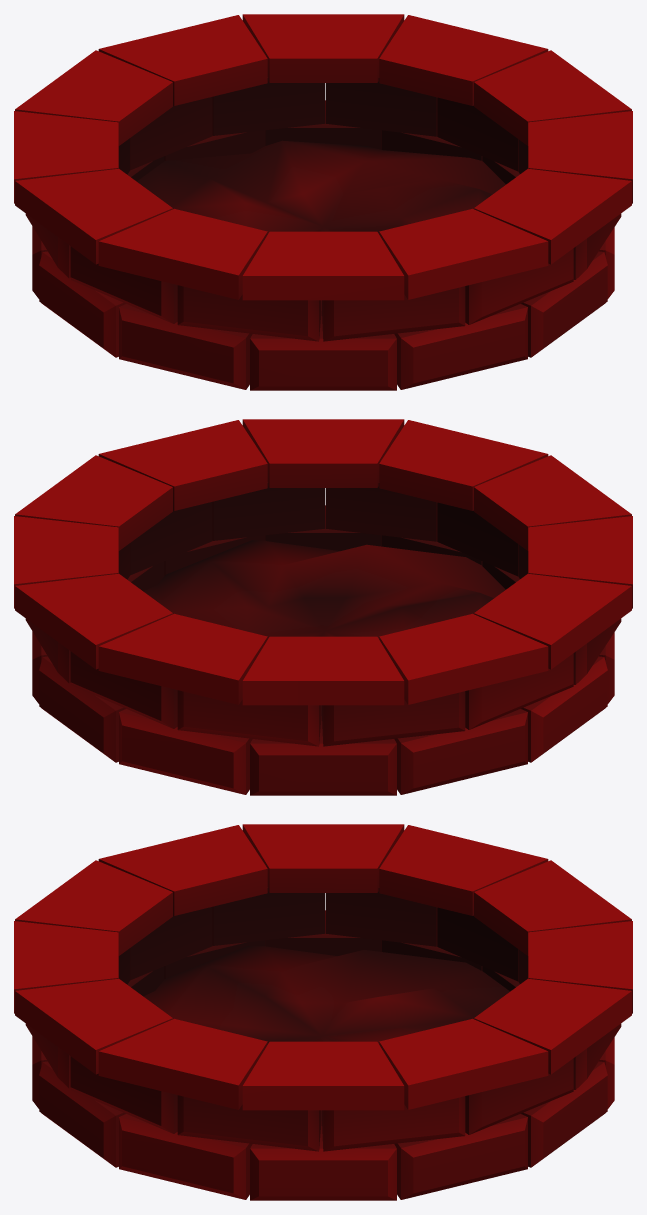
Rendered from BrickFirePit.glb.
3 views of the same model, one above another, from view 1: azimuth 30°, elevation 25°; view 2: azimuth 150°, elevation 25°; view 3: azimuth 270°, elevation 25° (orthographic).
Visible parts, largest first — view 1: BrickFirePit; view 2: BrickFirePit; view 3: BrickFirePit.
Boxes of the visible parts, x1,y1,x2,y2 form: BrickFirePit: (14, 14, 632, 390); BrickFirePit: (14, 419, 632, 795); BrickFirePit: (14, 824, 632, 1200).
Size of the model in its own units: 7.91 by 1.78 by 7.91.
